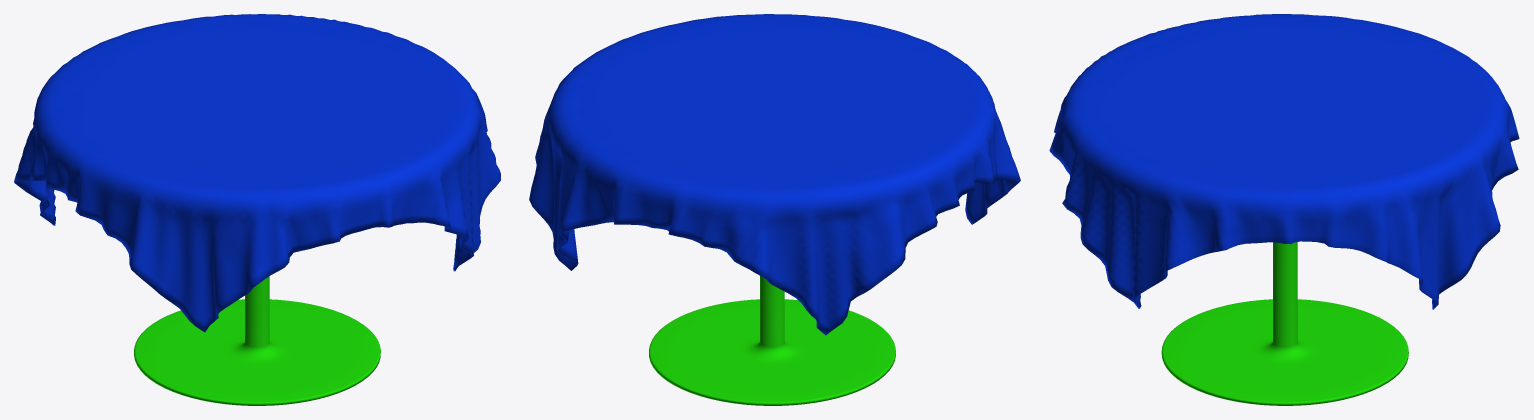
Rendered from DinnerTable2.fbx.
3 renders of one model, left to right at view 1: azimuth 30°, elevation 25°; view 2: azimuth 150°, elevation 25°; view 3: azimuth 270°, elevation 25°, orthographic.
Parts seen in each view (by area): view 1: Table; view 2: Table; view 3: Table.
Boxes of the visible parts, bbox=[...] form: Table: bbox=[14, 14, 500, 405]; Table: bbox=[529, 14, 1020, 405]; Table: bbox=[1049, 14, 1519, 405].
Size of the model in its own units: 132 by 78.53 by 133.
